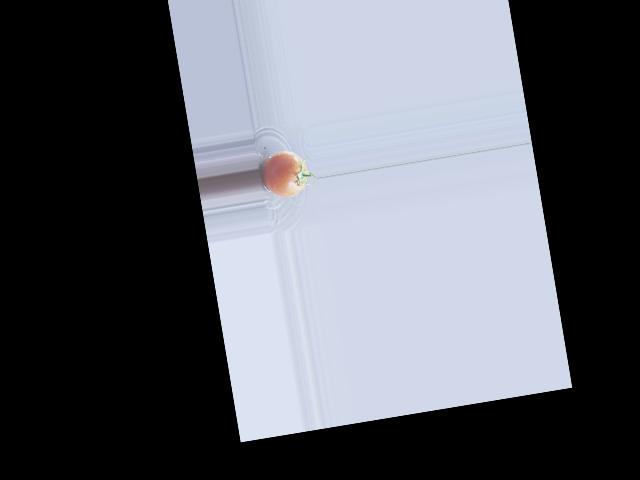tomato: (259, 148, 310, 200)
